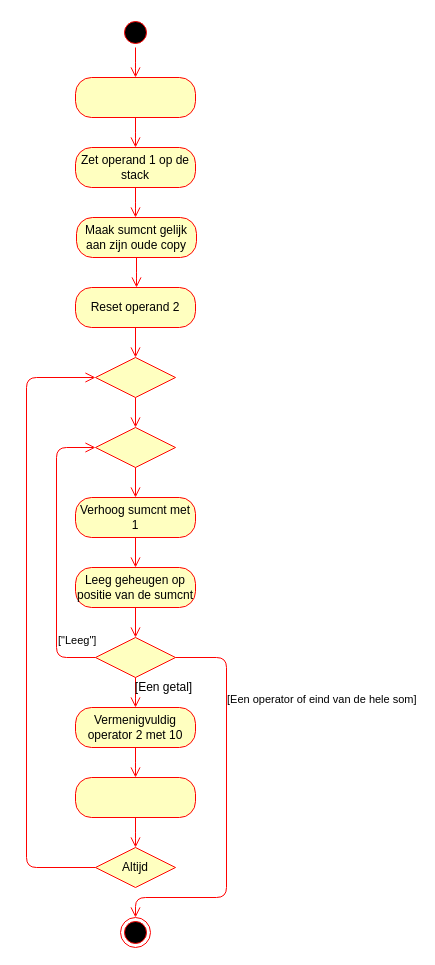
Some shapes in this 435 by 965 pixel diagram are drawn without their labels. The shapes that lost their labels are listed below. From the top down, each one's centre as x and y in pixels, then its label:
At (x=135, y=97): "Reset de stack".
At (x=135, y=657): "Waarde is".
At (x=135, y=797): "Tel de gelezen waarde bij operator 2 op".
